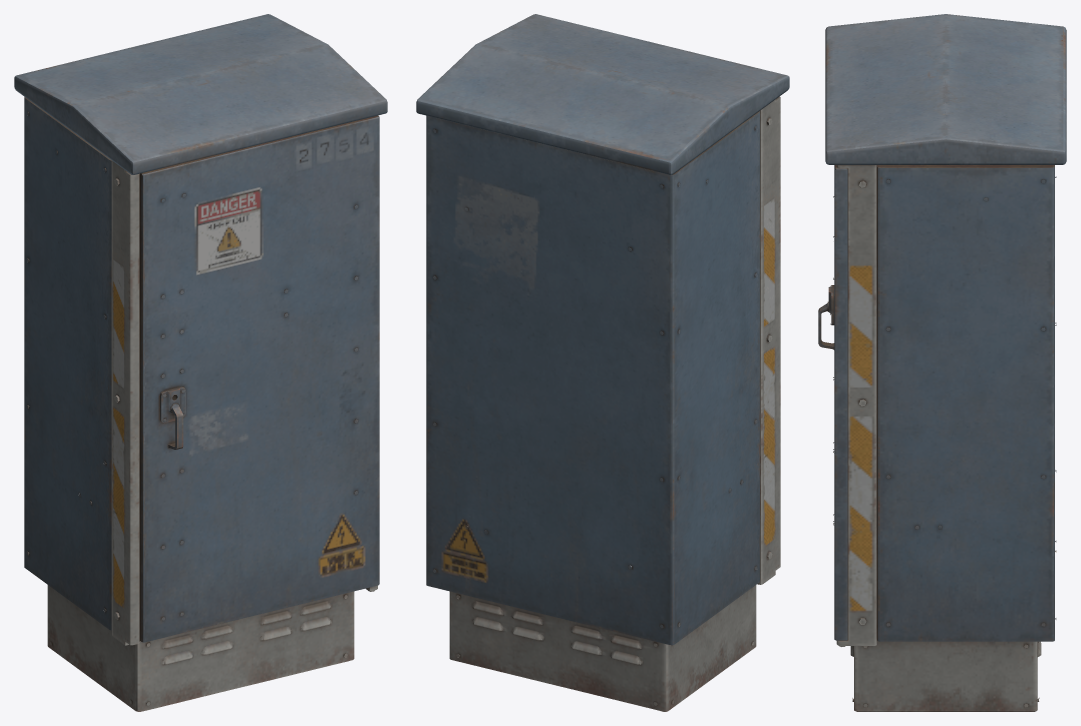
File: utility_box.glb
3 views of the same model, side by side, from view 1: azimuth 30°, elevation 25°; view 2: azimuth 150°, elevation 25°; view 3: azimuth 270°, elevation 25° (orthographic).
Visible parts, largest first — view 1: mesh; view 2: mesh; view 3: mesh.
Boxes of the visible parts, x1=… form: mesh: x1=14, y1=14, x2=387, y2=711; mesh: x1=416, y1=14, x2=789, y2=711; mesh: x1=818, y1=14, x2=1066, y2=711.
Bounding box in the file's own units: 0.52 × 1.12 × 0.4319.
Materials: 1 (1 with a texture image).
